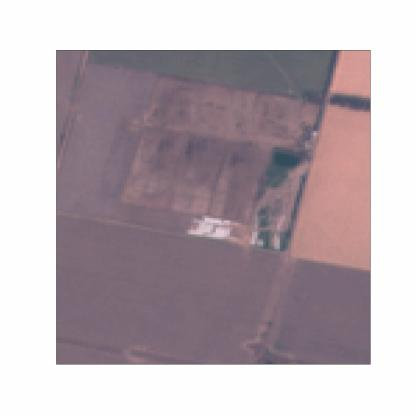silobolsa: (192, 216, 237, 224), (212, 231, 234, 237), (188, 230, 210, 235), (189, 226, 214, 230)
